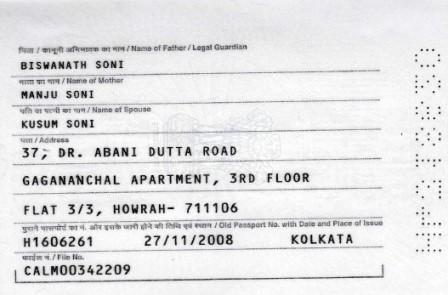File_no: (21, 264, 135, 276)
address: (15, 136, 379, 220)
father_name: (16, 56, 129, 74)
mother_name: (13, 88, 105, 102)
old_passport_details: (19, 227, 360, 250)
spouse_name: (18, 115, 100, 132)
